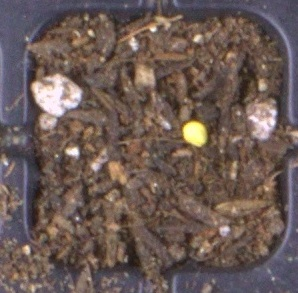chilli seed: (182, 120, 208, 148)
